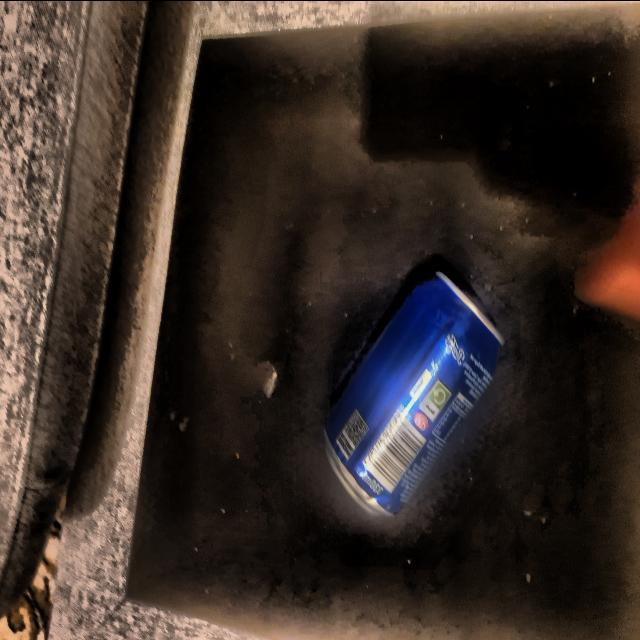pepsi-can: (331, 258, 498, 510)
